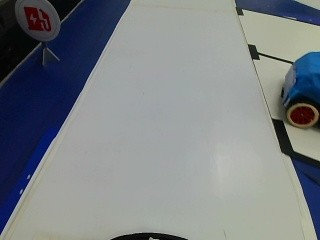battery: (14, 0, 60, 39)
car: (281, 49, 318, 129)
